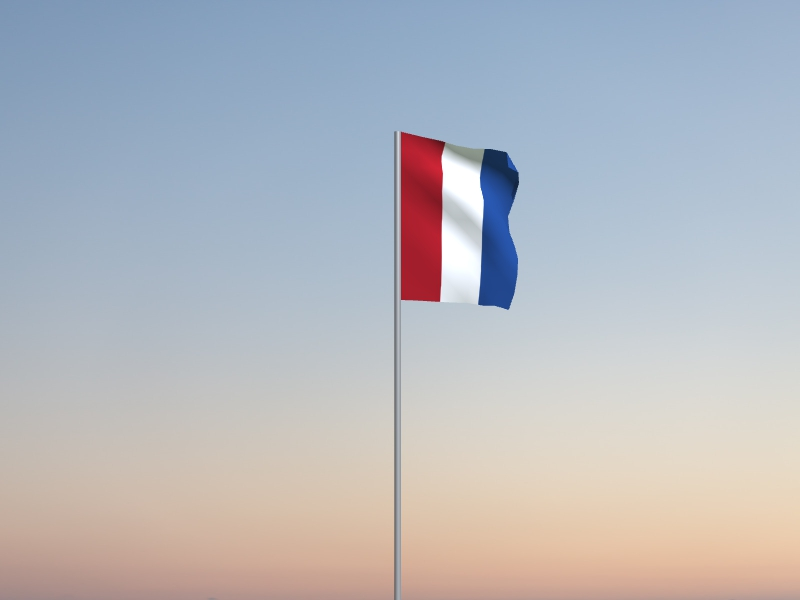nl: (402, 132, 521, 311)
